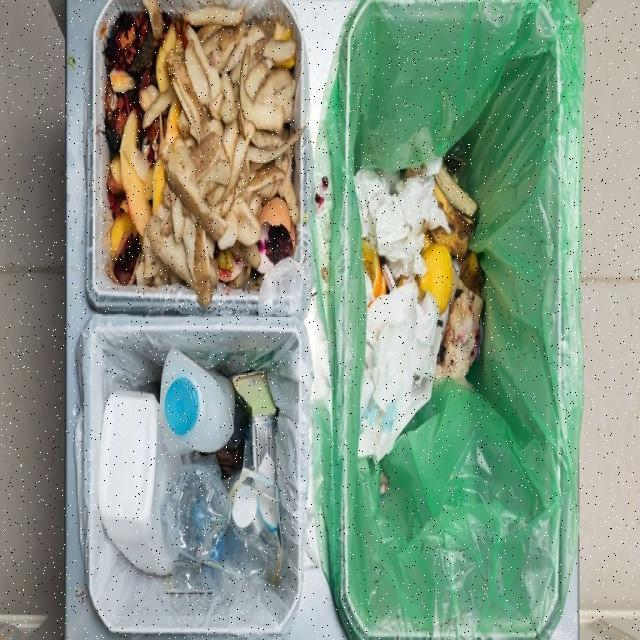Disposable: (232, 371, 276, 470)
Garbage: (105, 0, 300, 307), (99, 349, 282, 583), (354, 158, 484, 461)
Plastic_Container: (100, 391, 181, 574), (160, 349, 234, 454)
Plastic_bottle: (161, 456, 231, 561)
